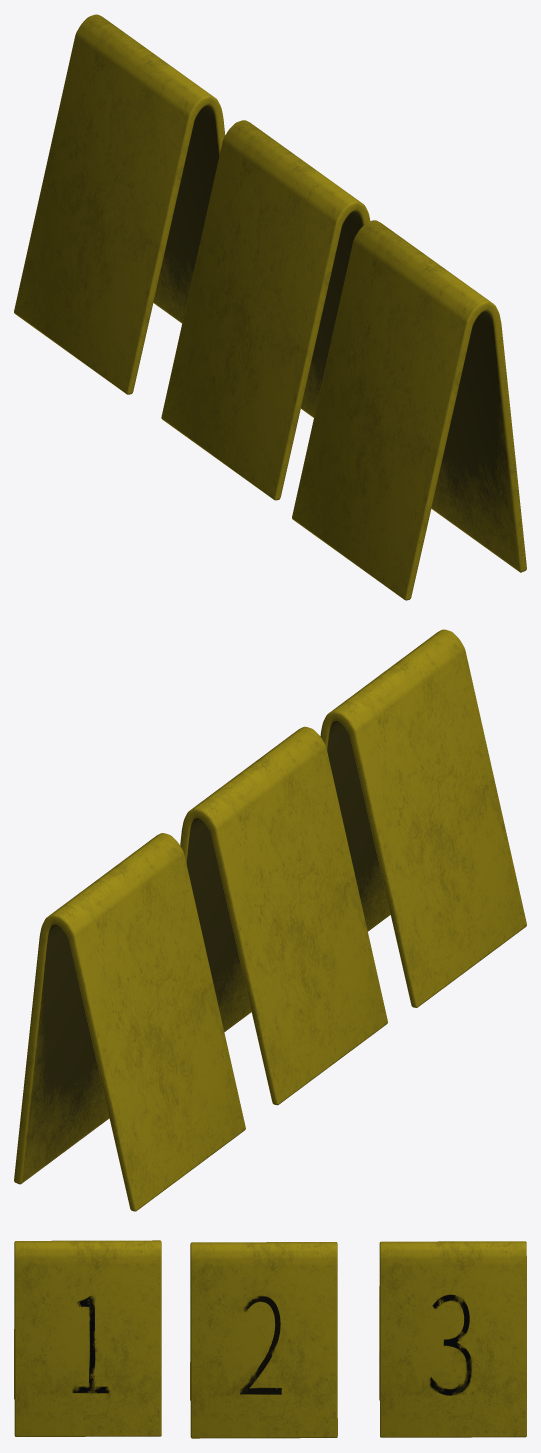
The model's file is evidence-markers.glb.
3 views of the same model, one above another, from view 1: azimuth 30°, elevation 25°; view 2: azimuth 150°, elevation 25°; view 3: azimuth 270°, elevation 25° (orthographic). The views are drawn at different scales.
Parts seen in each view (by area): view 1: Plane.001, Plane, Plane.002; view 2: Plane, Plane.002, Plane.001; view 3: Plane, Plane.001, Plane.002.
Boxes of the visible parts, left/top/right/bottom form: Plane.001: left=292, top=220, right=526, bottom=600; Plane: left=14, top=14, right=225, bottom=394; Plane.002: left=161, top=120, right=370, bottom=500; Plane: left=14, top=833, right=245, bottom=1211; Plane.002: left=180, top=726, right=387, bottom=1105; Plane.001: left=320, top=629, right=526, bottom=1007; Plane: left=379, top=1241, right=526, bottom=1437; Plane.001: left=14, top=1240, right=161, bottom=1436; Plane.002: left=190, top=1242, right=337, bottom=1438.
Size of the model in its own units: 1.15 by 2.38 by 6.07.
3 materials, 3 textured.
